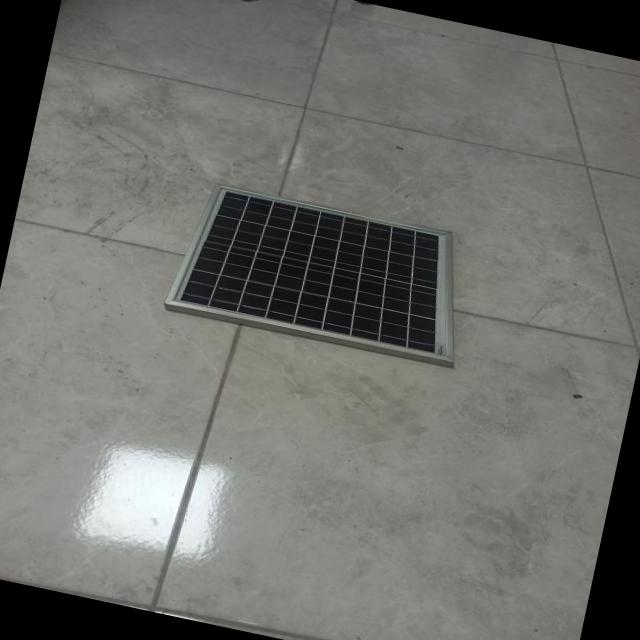no faulty: (186, 193, 439, 347)
